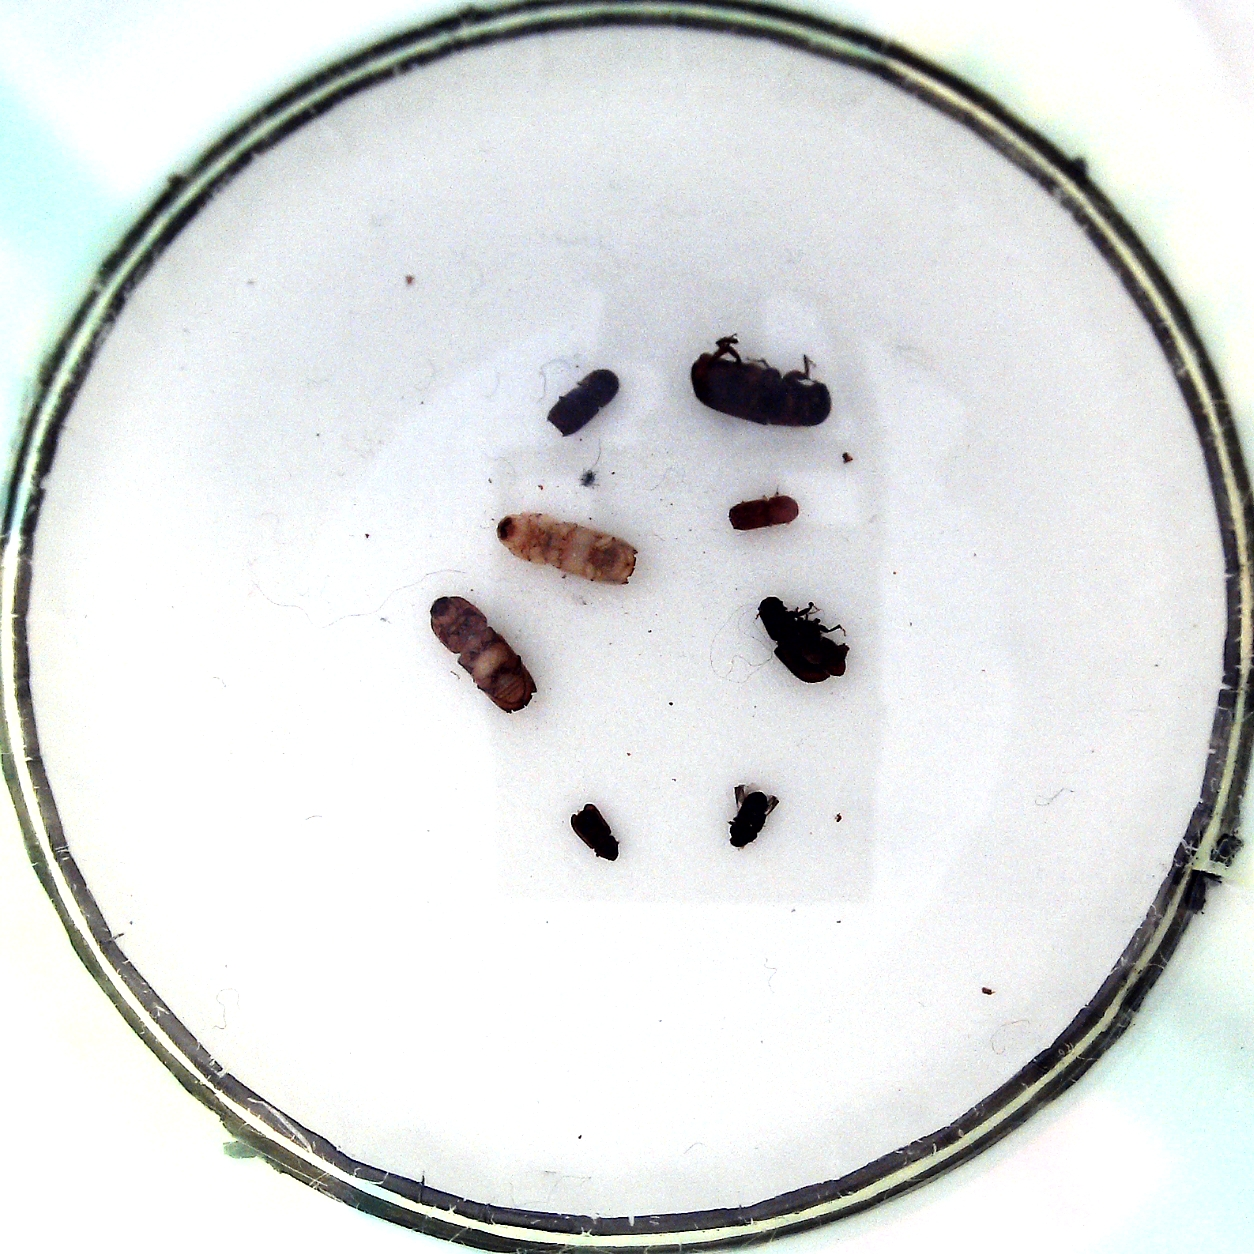Boerner: (431, 596, 537, 714), (496, 511, 638, 586)
Leconte: (690, 353, 833, 427)
acuminatus: (729, 792, 767, 847)
armandi: (759, 596, 849, 682)
coleoptera: (571, 804, 619, 861), (728, 495, 798, 531)
linnaeus: (545, 371, 620, 436)
